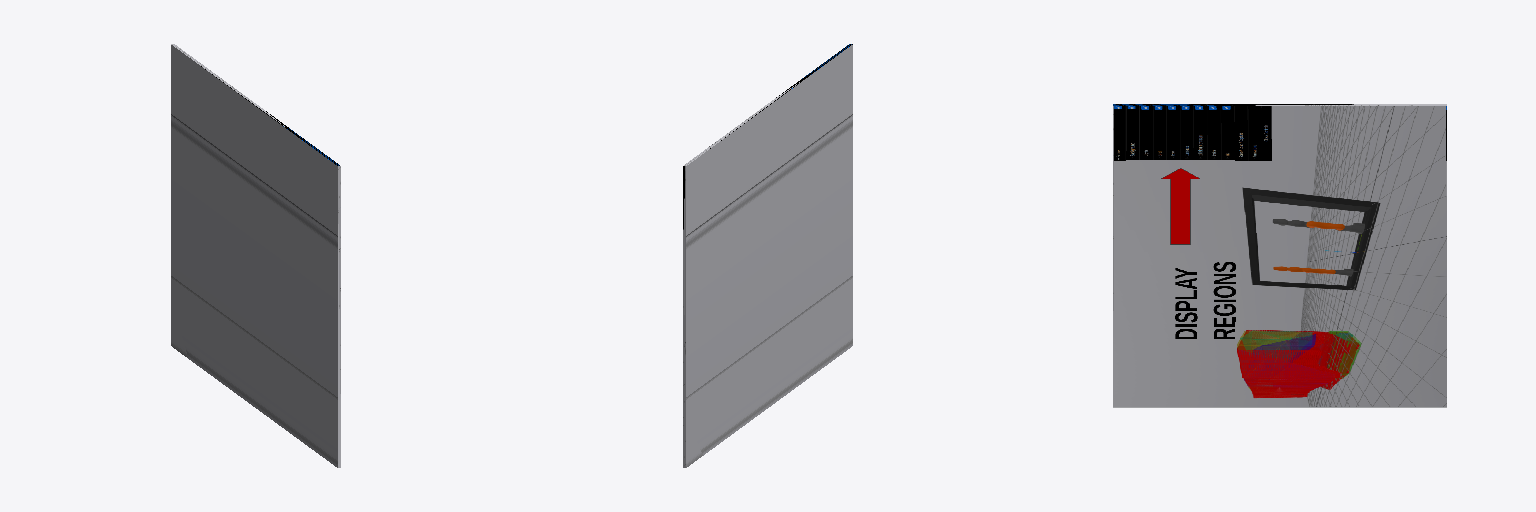
The picture shows the model from 3 angles: view 1: azimuth 30°, elevation 25°; view 2: azimuth 150°, elevation 25°; view 3: azimuth 270°, elevation 25°; orthographic projection.
Parts seen in each view (by area): view 1: Cube; view 2: Cube; view 3: Cube.
Boxes of the visible parts, box(x1,y1,x2,y2) form: Cube: box(171, 44, 340, 467); Cube: box(683, 44, 852, 467); Cube: box(1113, 104, 1446, 407).
Size of the model in its own units: 0.2 by 20 by 20.
Materials: 1 (1 with a texture image).